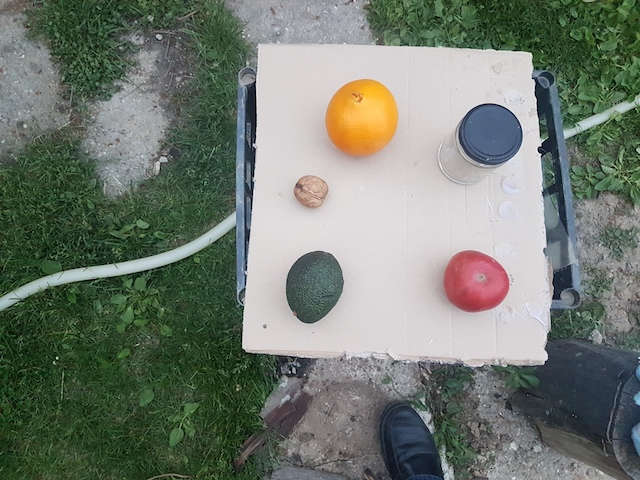apple: (442, 248, 511, 312)
avocado: (285, 249, 344, 325)
nut: (291, 173, 329, 208)
orange: (323, 76, 399, 158)
recipient: (458, 103, 523, 162)
